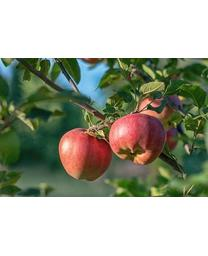apple: (108, 113, 165, 165), (59, 128, 113, 181)
